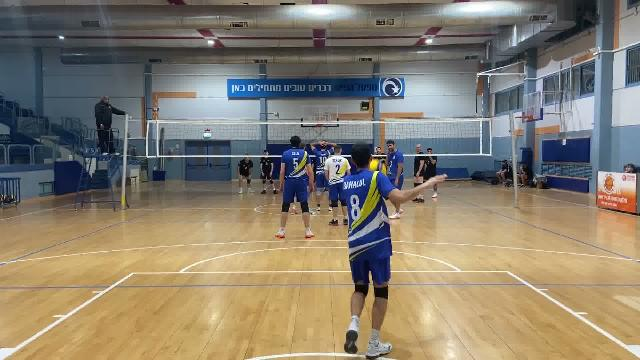ball: (369, 157, 387, 176)
